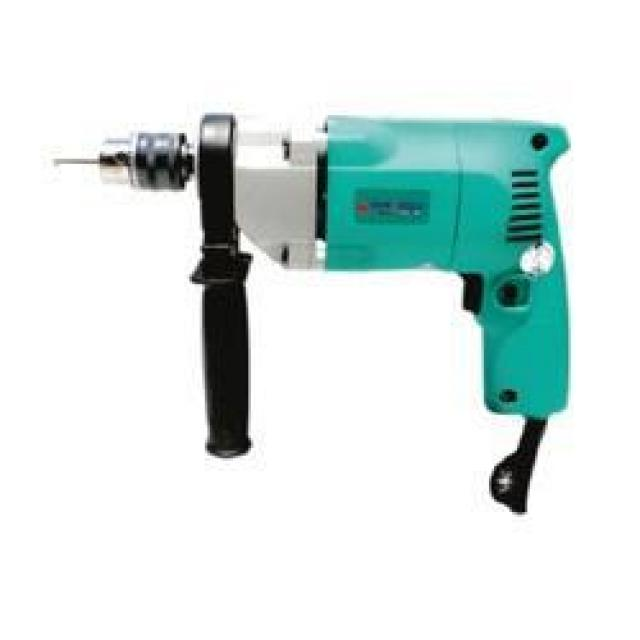Drill: (55, 114, 572, 518)
